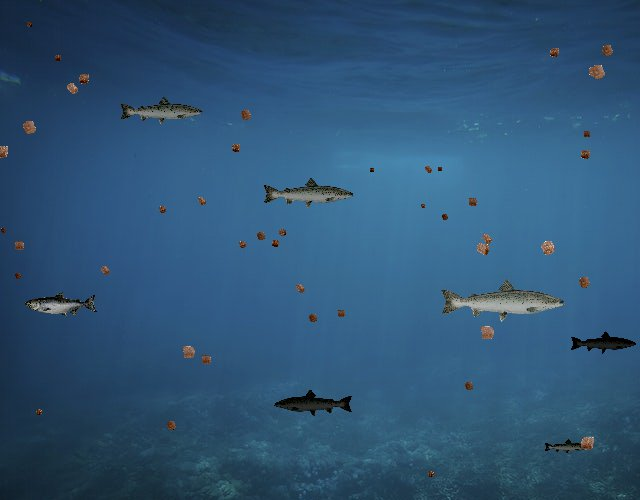Fish: (438, 277, 567, 323), (262, 176, 356, 210), (118, 95, 204, 126), (274, 389, 355, 418), (26, 292, 98, 318), (570, 330, 638, 354), (543, 438, 590, 455)
Pellet: (573, 430, 601, 458), (469, 236, 496, 263), (60, 76, 85, 101), (572, 270, 596, 294), (423, 467, 438, 481), (32, 405, 46, 419), (23, 19, 35, 31)
